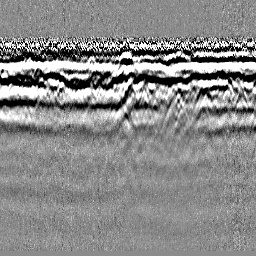cavity: (120, 77, 140, 102)
